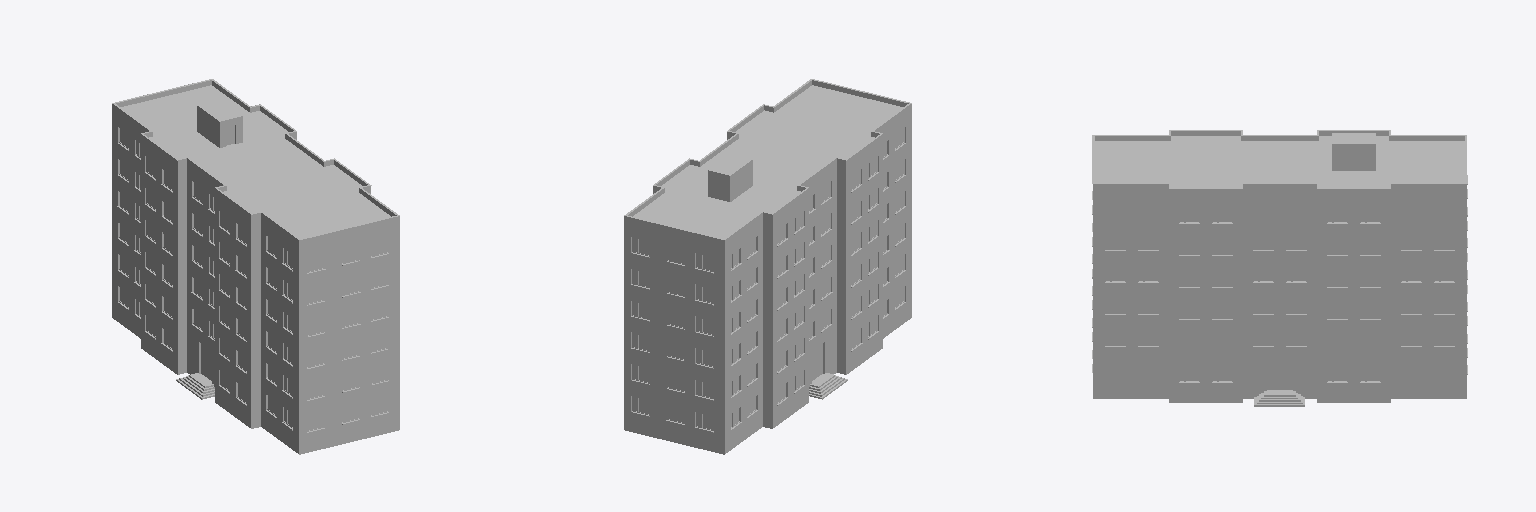
File: soviet.obj
The picture shows the model from 3 angles: view 1: azimuth 30°, elevation 25°; view 2: azimuth 150°, elevation 25°; view 3: azimuth 270°, elevation 25°; orthographic projection.
Parts seen in each view (by area): view 1: BUILDING; view 2: BUILDING; view 3: BUILDING.
Part boxes in pixels (bbox=[...]): BUILDING: bbox=[112, 79, 399, 454]; BUILDING: bbox=[624, 79, 911, 454]; BUILDING: bbox=[1092, 130, 1467, 406].
Bounding box in the file's own units: 0.6832 × 1.15 × 1.66.